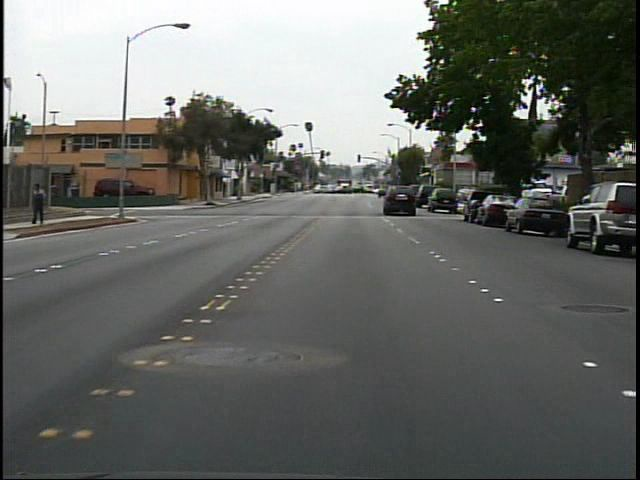person: (31, 179, 56, 230)
